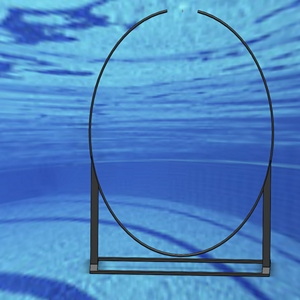circle: (87, 7, 275, 276)
